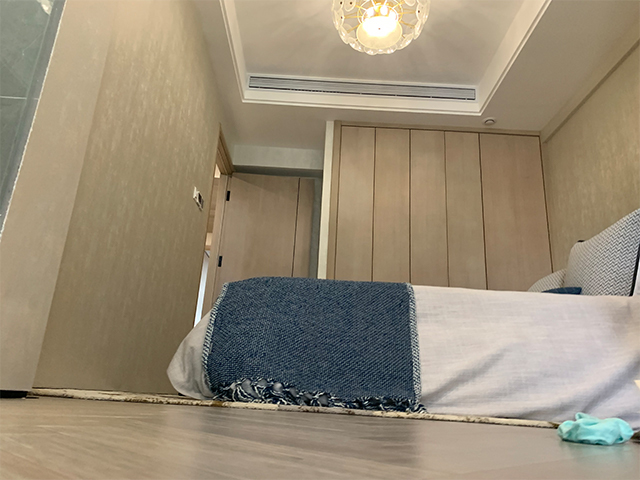bed: (161, 209, 640, 435)
carpet: (31, 387, 562, 430)
socks: (554, 409, 634, 448)
